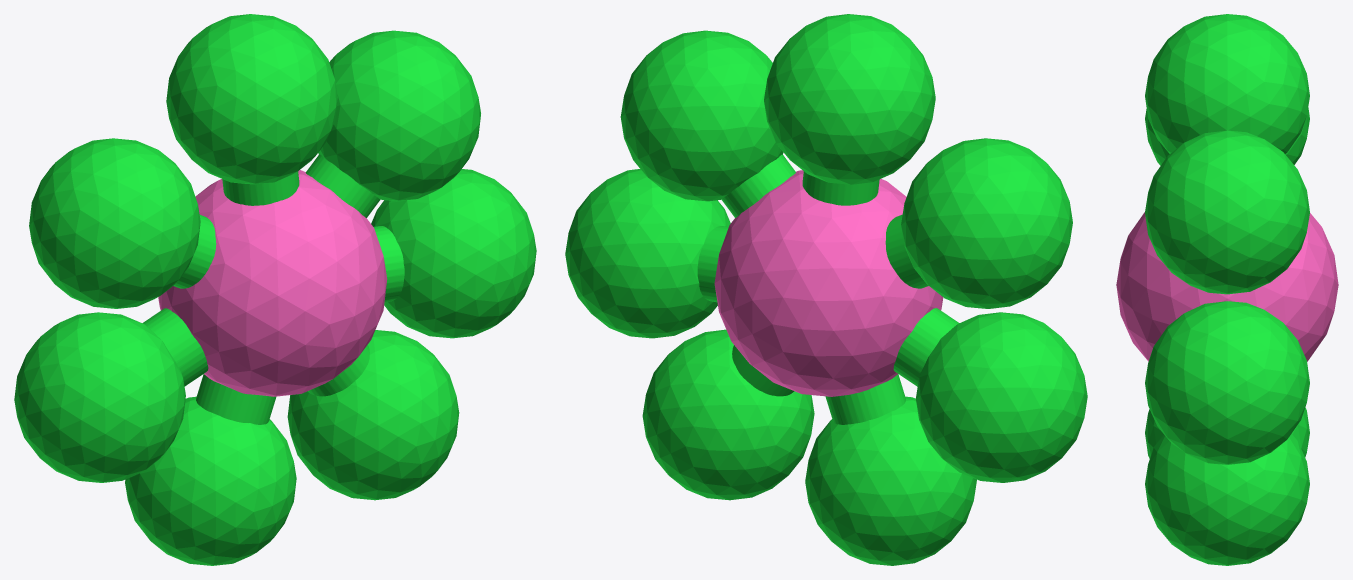
3 renders of one model, left to right at view 1: azimuth 30°, elevation 25°; view 2: azimuth 150°, elevation 25°; view 3: azimuth 270°, elevation 25°, orthographic. The views are drawn at different scales.
Parts seen in each view (by area): view 1: Shape_IndexedFaceSet, Shape_IndexedFaceSet.003, Shape_IndexedFaceSet.001, Shape_IndexedFaceSet.004, Shape_IndexedFaceSet.002, Shape_IndexedFaceSet.005, Shape_IndexedFaceSet.006, Shape_IndexedFaceSet.007, Shape_IndexedFaceSet.013, Shape_IndexedFaceSet.019, Shape_IndexedFaceSet.025, Shape_IndexedFaceSet.028 (+3 smaller); view 2: Shape_IndexedFaceSet, Shape_IndexedFaceSet.001, Shape_IndexedFaceSet.003, Shape_IndexedFaceSet.004, Shape_IndexedFaceSet.002, Shape_IndexedFaceSet.005, Shape_IndexedFaceSet.006, Shape_IndexedFaceSet.007, Shape_IndexedFaceSet.013, Shape_IndexedFaceSet.019, Shape_IndexedFaceSet.025, Shape_IndexedFaceSet.028 (+3 smaller); view 3: Shape_IndexedFaceSet.002, Shape_IndexedFaceSet.007, Shape_IndexedFaceSet.001, Shape_IndexedFaceSet.005, Shape_IndexedFaceSet, Shape_IndexedFaceSet.003, Shape_IndexedFaceSet.006.
Boxes of the visible parts, box(x1,y1,x2,y2) form: Shape_IndexedFaceSet: box(158, 170, 387, 396); Shape_IndexedFaceSet.003: box(29, 138, 200, 308); Shape_IndexedFaceSet.001: box(166, 14, 337, 184); Shape_IndexedFaceSet.004: box(14, 312, 185, 482); Shape_IndexedFaceSet.002: box(318, 30, 480, 201); Shape_IndexedFaceSet.005: box(287, 330, 459, 500); Shape_IndexedFaceSet.006: box(125, 396, 296, 565); Shape_IndexedFaceSet.007: box(371, 169, 536, 338); Shape_IndexedFaceSet.013: box(196, 374, 276, 424); Shape_IndexedFaceSet.019: box(142, 308, 208, 386); Shape_IndexedFaceSet.025: box(305, 154, 379, 217); Shape_IndexedFaceSet.028: box(222, 171, 299, 205); Shape_IndexedFaceSet: box(714, 170, 943, 396); Shape_IndexedFaceSet.001: box(764, 14, 935, 184); Shape_IndexedFaceSet.003: box(901, 138, 1072, 308); Shape_IndexedFaceSet.004: box(915, 312, 1087, 482); Shape_IndexedFaceSet.002: box(620, 30, 783, 201); Shape_IndexedFaceSet.005: box(642, 329, 814, 500); Shape_IndexedFaceSet.006: box(805, 396, 976, 565); Shape_IndexedFaceSet.007: box(565, 169, 730, 338); Shape_IndexedFaceSet.013: box(825, 374, 905, 424); Shape_IndexedFaceSet.019: box(893, 308, 959, 386); Shape_IndexedFaceSet.025: box(722, 154, 795, 217); Shape_IndexedFaceSet.028: box(802, 171, 879, 205); Shape_IndexedFaceSet.002: box(1145, 130, 1309, 294); Shape_IndexedFaceSet.007: box(1145, 301, 1309, 464); Shape_IndexedFaceSet.001: box(1145, 14, 1309, 153); Shape_IndexedFaceSet.005: box(1145, 434, 1309, 565); Shape_IndexedFaceSet: box(1116, 212, 1338, 361); Shape_IndexedFaceSet.003: box(1145, 108, 1309, 165); Shape_IndexedFaceSet.006: box(1145, 407, 1309, 458).
Bounding box in the file's own units: 0.2328 × 0.2347 × 0.0934.
